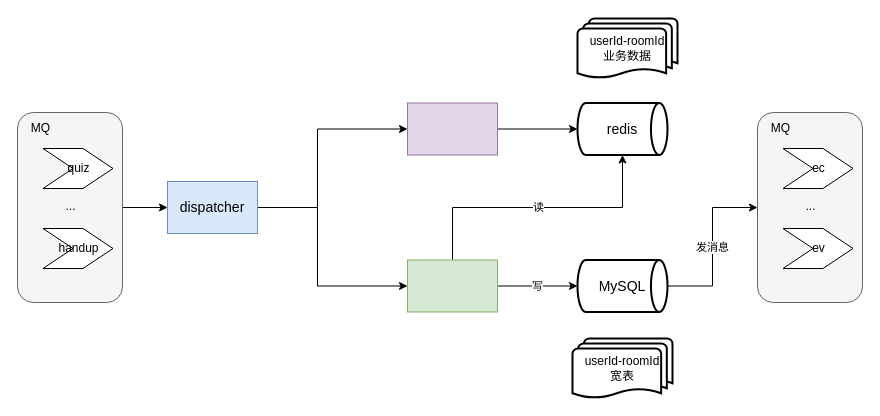
Some shapes in this 880 by 416 pixel diagram are drawn without their labels. Here are the shapes that lost their labels. From the top down, the box of each, then its label:
(406, 102, 498, 155): processer
(406, 259, 498, 312): loader
